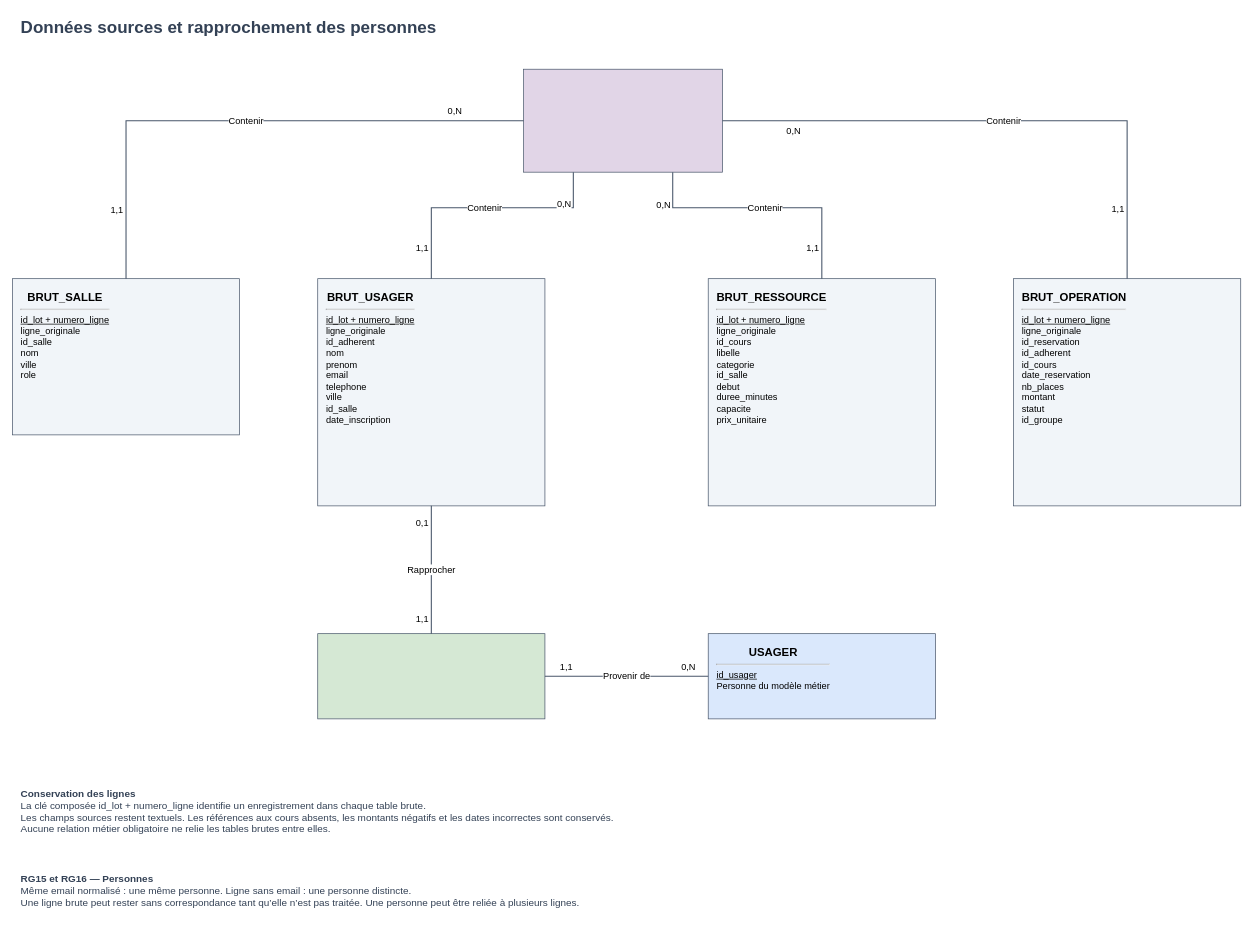
The diagram is 1253 pixels wide and 951 high, and some of its shapes have lost their labels. Each missing label, with the centre of its shape:
LOT_SOURCE id_lot libelle date_creation: (622,120)
USAGER_SOURCE id_lot + numero_ligne id_usager: (431,676)
